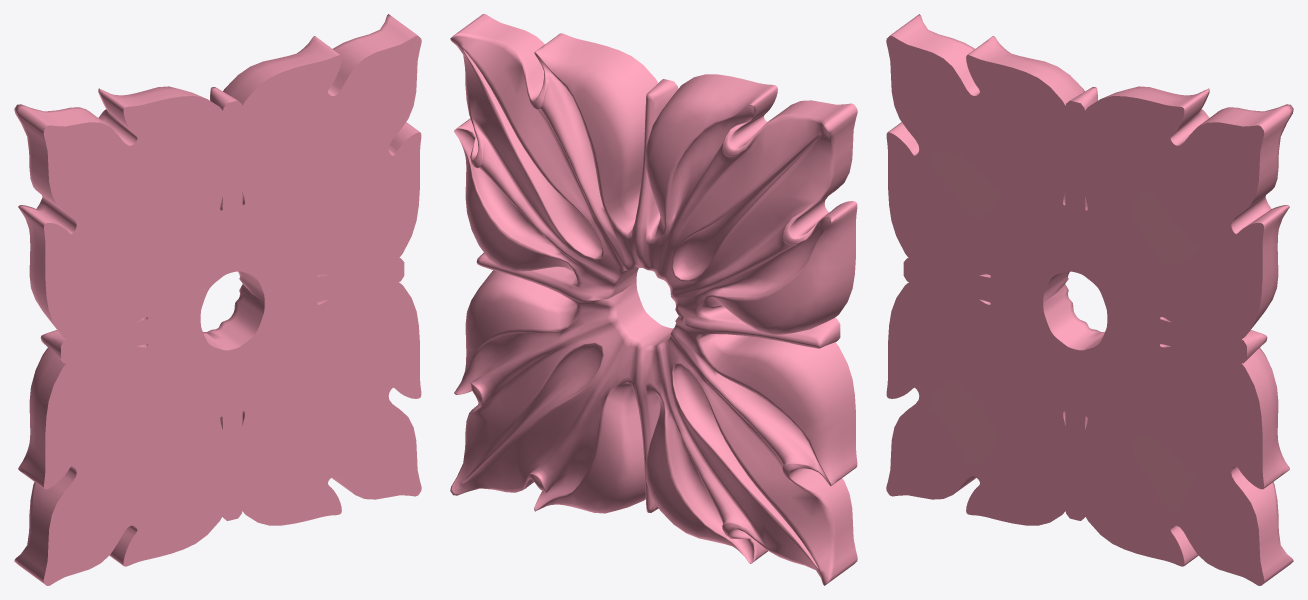
The picture shows the model from 3 angles, left to right: view 1: azimuth 30°, elevation 25°; view 2: azimuth 150°, elevation 25°; view 3: azimuth 330°, elevation 25°; orthographic projection.
Visible parts, largest first — view 1: Plane329; view 2: Plane329; view 3: Plane329.
Boxes of the visible parts, x1,y1,x2,y2 form: Plane329: [14, 14, 421, 585]; Plane329: [450, 14, 857, 585]; Plane329: [886, 14, 1293, 585].
Size of the model in its own units: 0.2042 by 0.2376 by 0.0349.
